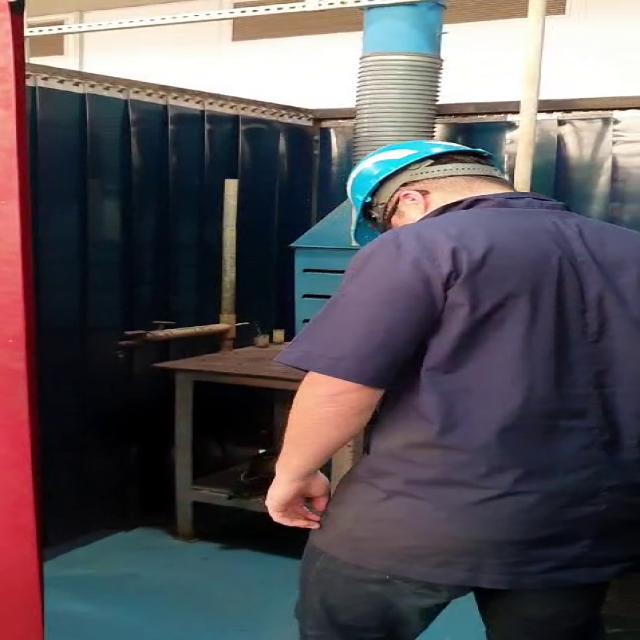oculos-epi: (377, 196, 407, 233)
